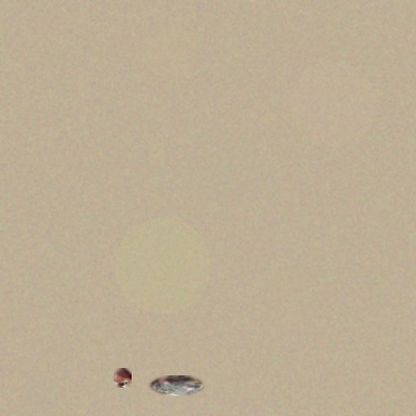rotten: (148, 375, 205, 396)
sprouted: (114, 368, 132, 388)
